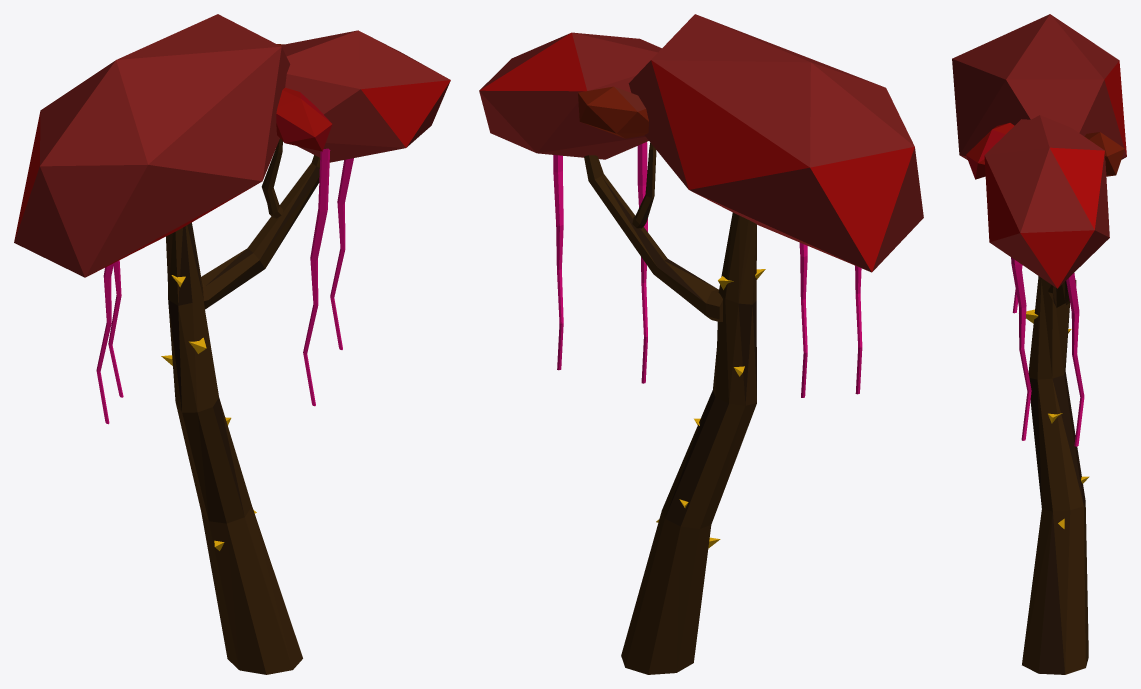
File: LowPolyTree01-Level03blend.fbx
3 views of the same model, side by side, from view 1: azimuth 30°, elevation 25°; view 2: azimuth 150°, elevation 25°; view 3: azimuth 270°, elevation 25° (orthographic). The views are drawn at different scales.
Visible parts, largest first — view 1: Cone.005; view 2: Cone.005; view 3: Cone.005.
Part boxes in pixels (x1,y1,x2,y2): Cone.005: (14,14,450,674); Cone.005: (479,14,923,674); Cone.005: (952,14,1126,674).
Size of the model in its own units: 411 by 611 by 167.
